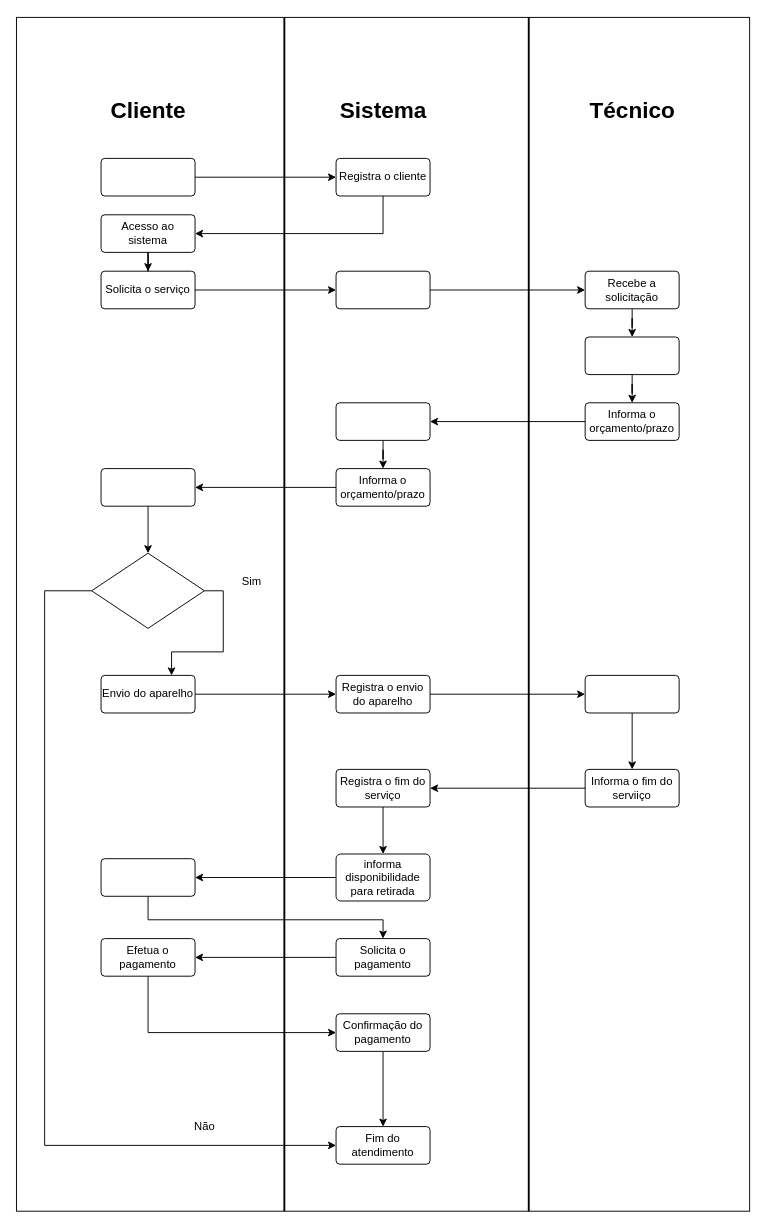
Image size: 766x1228. Some labels were removed from this diagram. Here are the shapes that lost their labels. From the top down, the centre of each, then its label:
pixel 147 176: Realiza o cadastro
pixel 382 289: Registra a solicitação
pixel 631 355: Analisa o serviço
pixel 382 421: Registra o orçamento/prazo
pixel 147 487: Recebe o orçamento/prazo
pixel 147 590: Continuar com o atendimento?
pixel 631 693: Efetua o serviço solicitado
pixel 147 877: Confirma retirada
